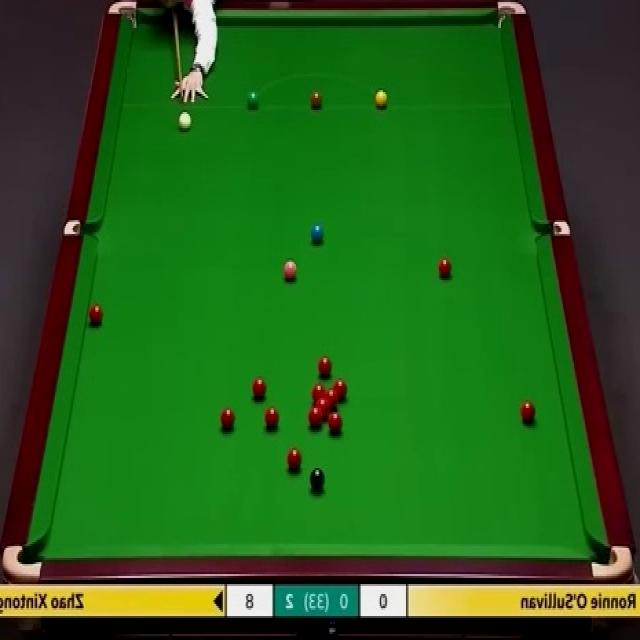black-ball: (308, 468, 326, 490)
blue-ball: (310, 222, 324, 247)
brown-ball: (310, 90, 323, 109)
green-ball: (246, 90, 259, 109)
pink-ball: (282, 258, 297, 283)
red-ball: (286, 446, 302, 475), (436, 256, 453, 280), (220, 407, 234, 435), (264, 406, 280, 430), (317, 355, 332, 380), (252, 377, 268, 400), (328, 410, 342, 436), (88, 302, 104, 324), (312, 383, 328, 405), (521, 399, 535, 423), (332, 380, 348, 400), (308, 408, 322, 430), (323, 391, 338, 411), (315, 400, 328, 420)
white-ball: (178, 111, 192, 130)
yellow-ball: (375, 90, 388, 109)
